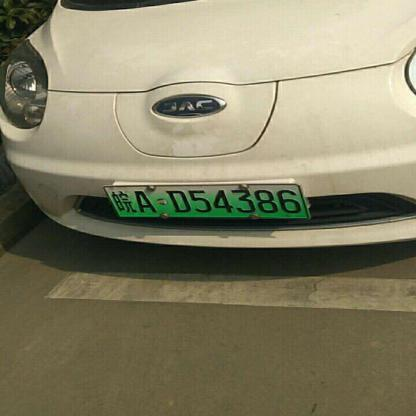lp: (105, 185, 308, 217)
